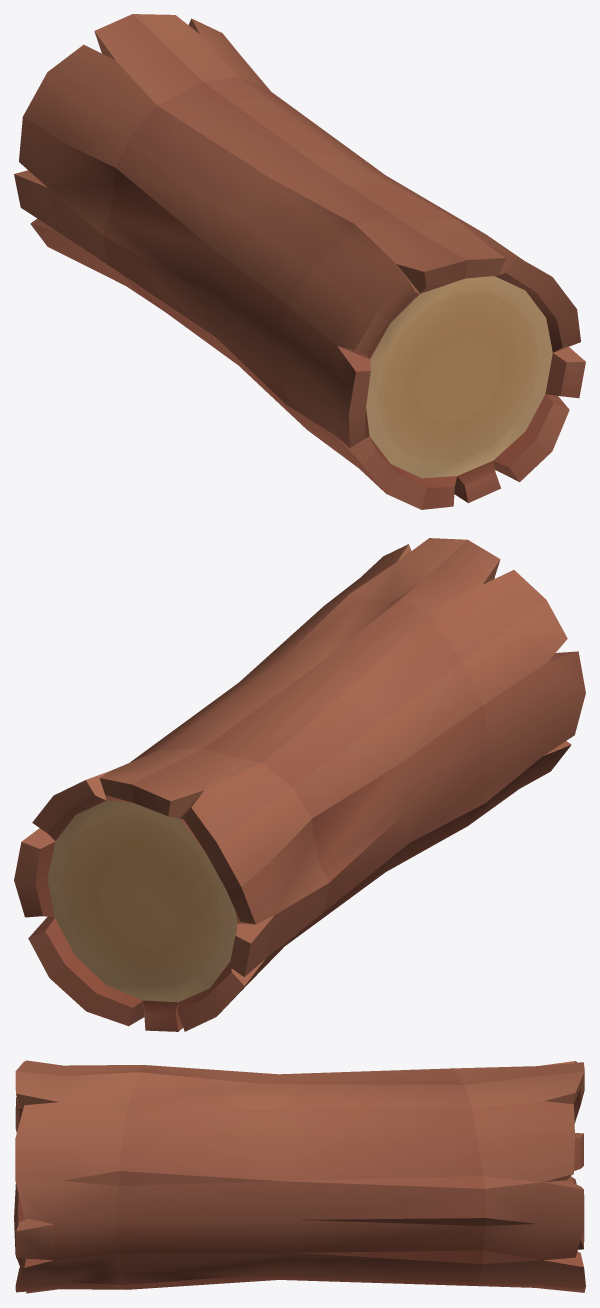
Rendered from wood_log_b.glb.
3 views of the same model, one above another, from view 1: azimuth 30°, elevation 25°; view 2: azimuth 150°, elevation 25°; view 3: azimuth 270°, elevation 25° (orthographic). The views are drawn at different scales.
Visible parts, largest first — view 1: Wood_Log_B; view 2: Wood_Log_B; view 3: Wood_Log_B.
Boxes of the visible parts, x1,y1,x2,y2 form: Wood_Log_B: (14, 14, 585, 509); Wood_Log_B: (14, 538, 585, 1031); Wood_Log_B: (14, 1060, 585, 1293).
Size of the model in its own units: 0.549 by 0.5506 by 1.35.
Materials: 1 (1 with a texture image).
